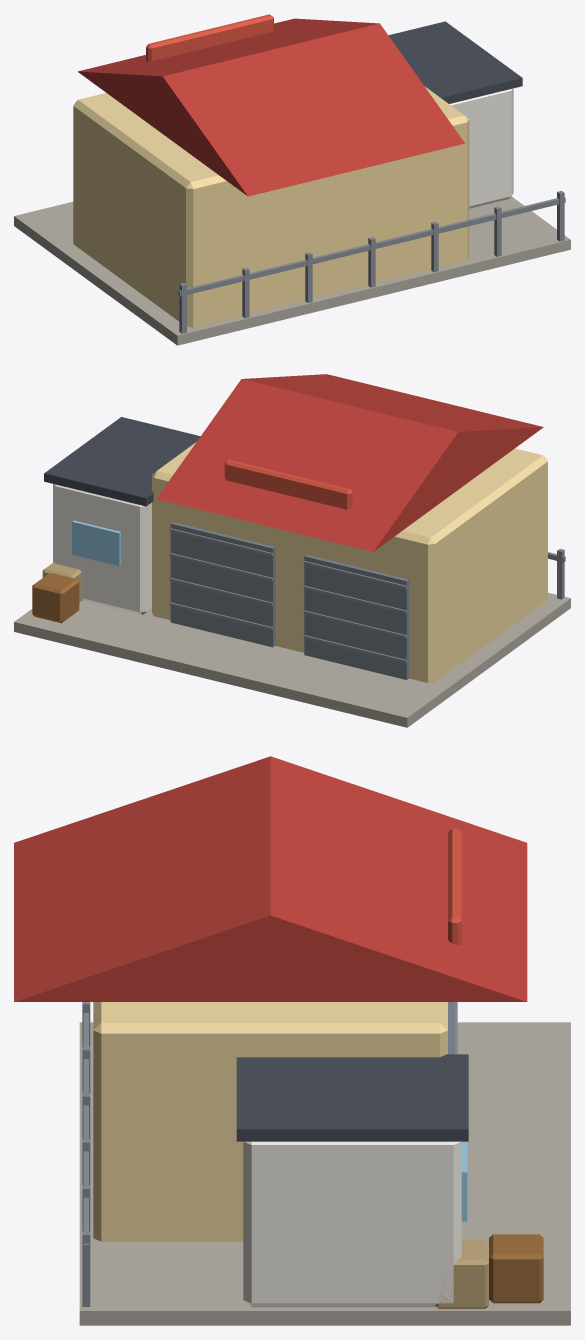
The model's file is garage_l2.glb.
The picture shows the model from 3 angles, top to bottom: view 1: azimuth 30°, elevation 25°; view 2: azimuth 150°, elevation 25°; view 3: azimuth 270°, elevation 25°; orthographic projection. The views are drawn at different scales.
Visible parts, largest first — view 1: garage_l2; view 2: garage_l2; view 3: garage_l2.
Part boxes in pixels (x1=…): garage_l2: x1=14, y1=14, x2=570, y2=345; garage_l2: x1=14, y1=374, x2=570, y2=727; garage_l2: x1=14, y1=756, x2=570, y2=1325.
Size of the model in its own units: 5.05 by 2.56 by 4.08.
Materials: 1 (1 with a texture image).
